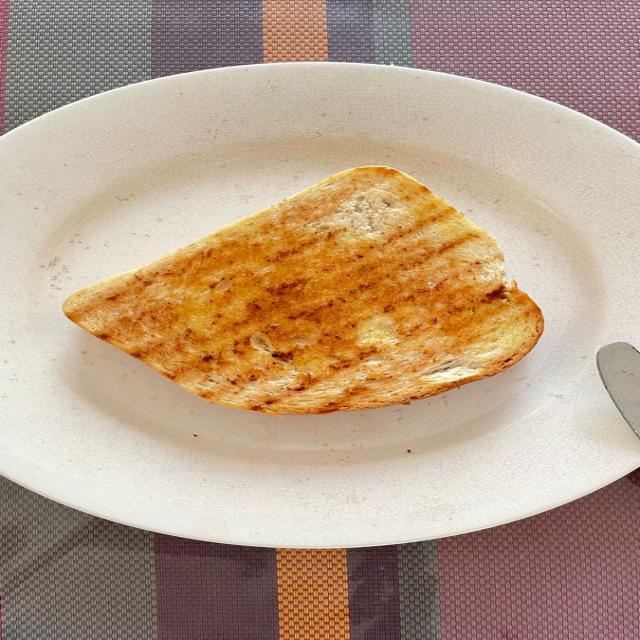toast bread: (64, 166, 543, 414), (0, 0, 9, 135)
